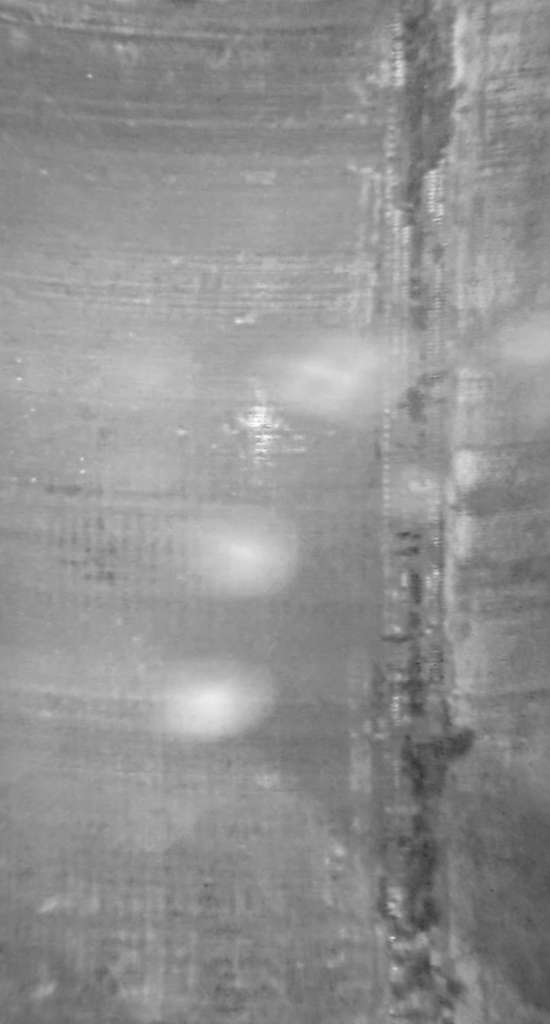splice: (381, 1, 476, 1024)
